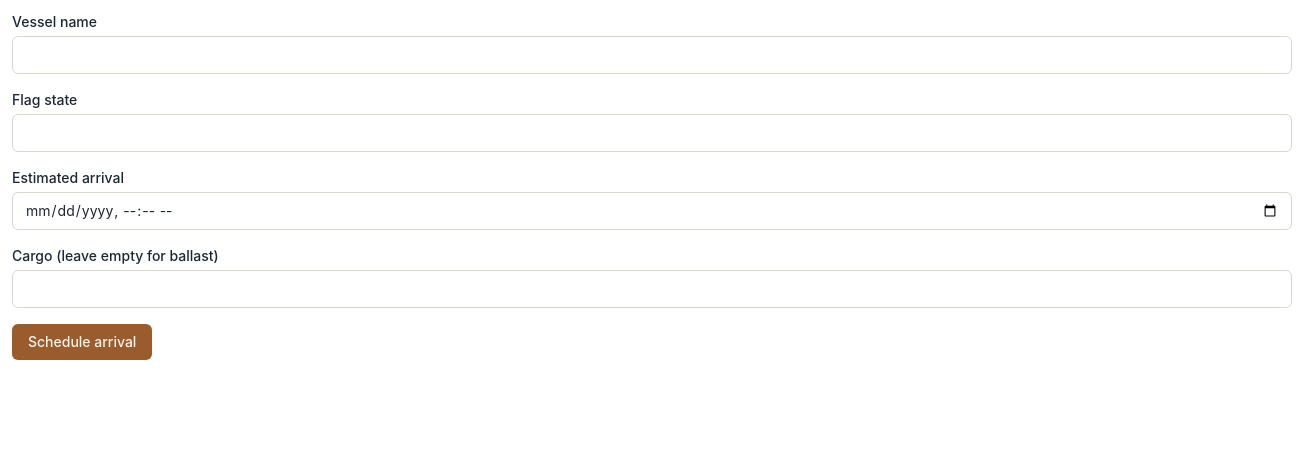
Test case: ScheduleArrivalForm › blocks an empty submission with field messages
The image size is (1304, 449).
Click the button "Schedule arrival". click: (82, 342)
box: [12,324,152,360]
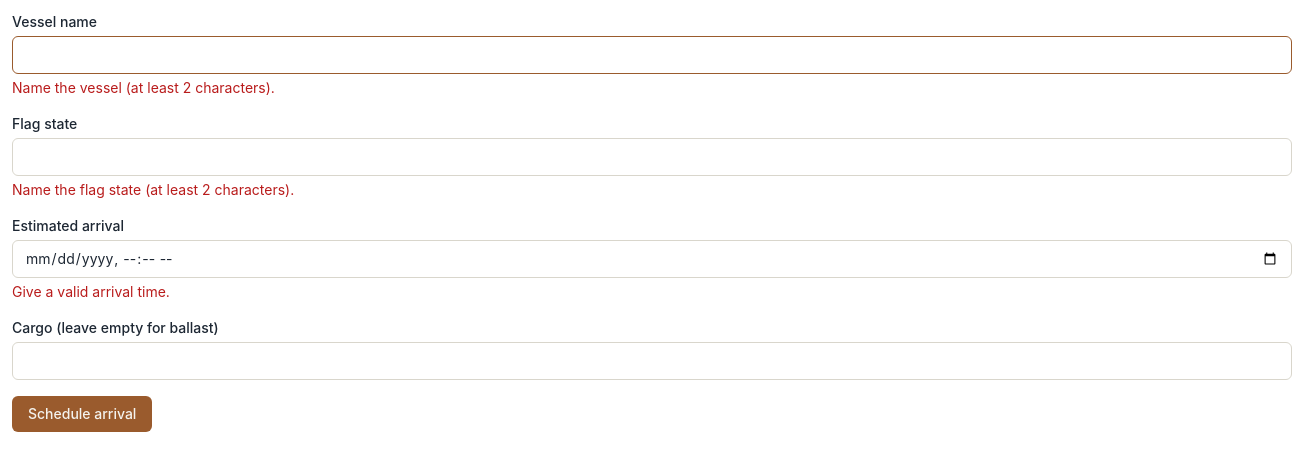
Expected: the text "Name the vessel (at least 2 characters)." is shown, [12,79,275,96]
